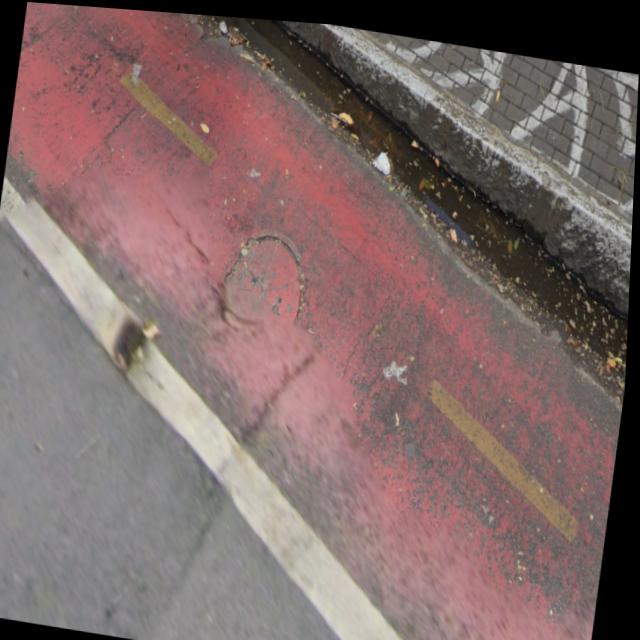Bueiro: (188, 210, 338, 394)
Buraco: (89, 31, 154, 90)
